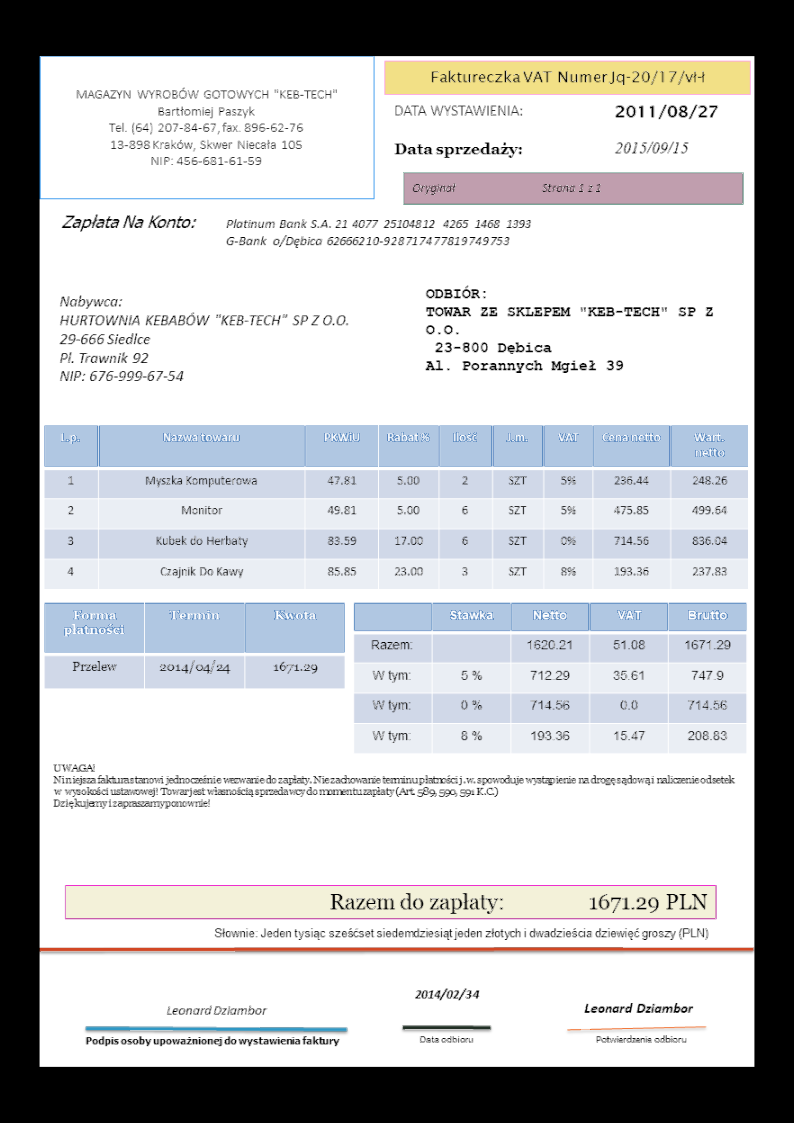Table: (43, 423, 749, 591), (352, 602, 748, 755), (43, 601, 346, 691)
TextBox: (51, 761, 737, 812), (422, 282, 718, 376), (56, 292, 349, 385), (73, 85, 340, 170), (223, 215, 535, 251), (328, 889, 710, 917), (212, 923, 708, 944), (428, 67, 706, 87), (83, 1032, 342, 1049), (410, 181, 601, 197), (60, 212, 197, 233), (392, 140, 526, 160), (392, 101, 524, 120), (613, 103, 719, 124), (581, 1000, 693, 1016), (164, 1002, 270, 1018), (614, 139, 690, 157), (413, 986, 481, 1002), (594, 1034, 688, 1045), (416, 1032, 474, 1046)
